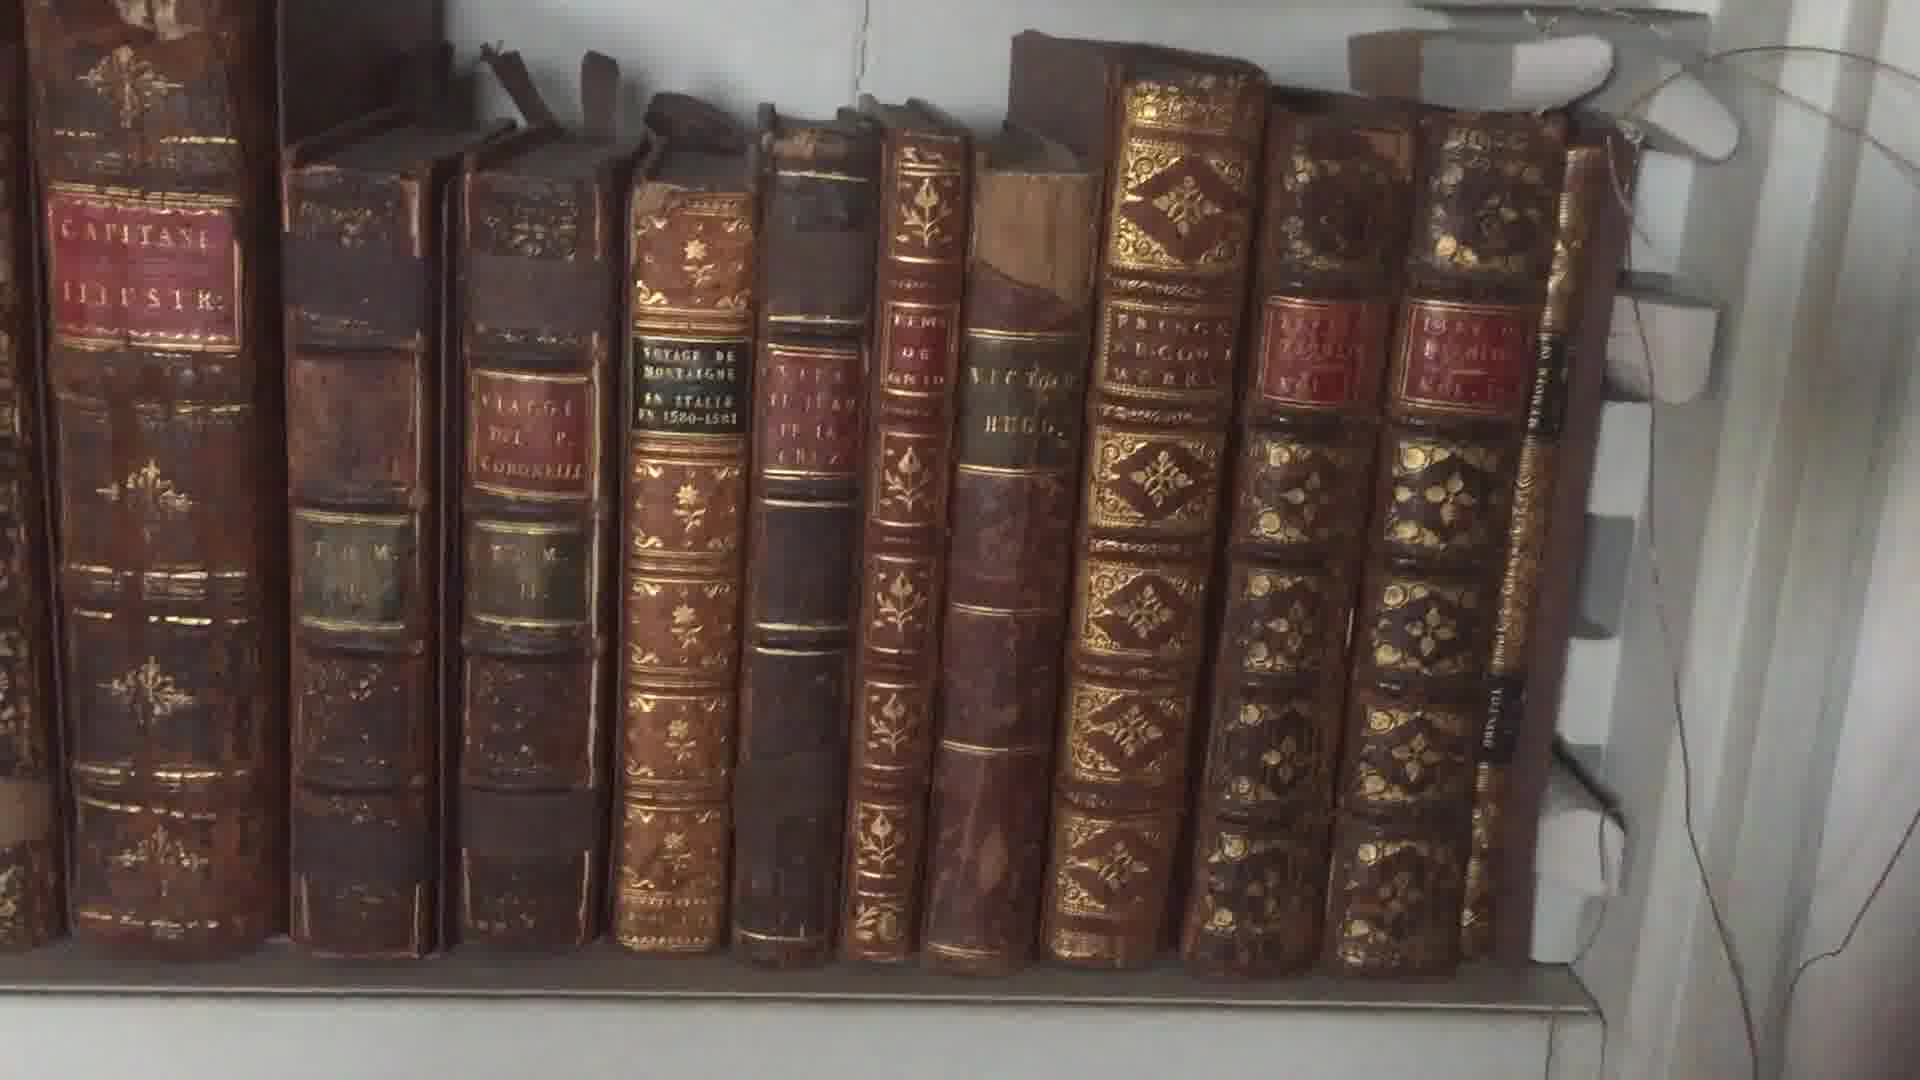Aa6-38: (18, 12, 272, 957)
Aa6-39_40: (268, 148, 621, 957)
Aa6-41: (615, 170, 741, 953)
Aa6-42: (741, 136, 870, 961)
Aa6-43: (847, 113, 960, 948)
Aa6-44: (919, 153, 1095, 961)
Aa6-45: (1048, 58, 1258, 967)
Aa6-46-47: (1182, 90, 1545, 963)
Aa6-48: (1470, 131, 1698, 996)
